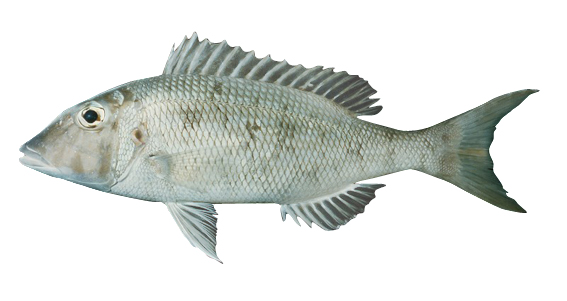fish: (19, 31, 540, 264)
